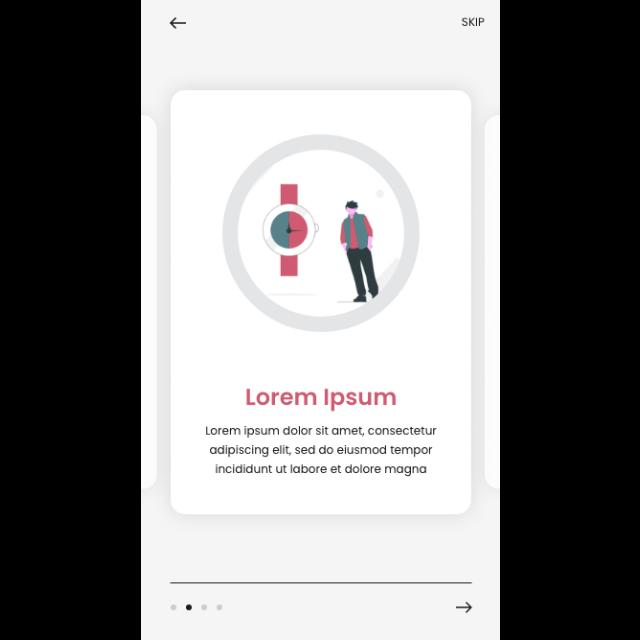icon: (168, 18, 186, 30), (456, 602, 472, 612)
image: (222, 135, 420, 333)
pageindicator: (170, 604, 223, 610)
panel: (170, 90, 472, 516)
text: (205, 426, 437, 476), (246, 390, 396, 412), (462, 18, 484, 28)
